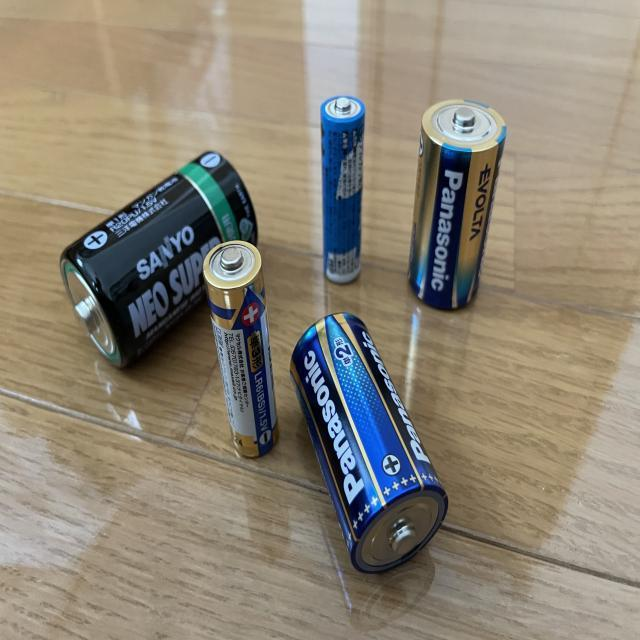battery: (58, 142, 262, 374), (287, 312, 449, 576), (403, 95, 516, 314), (201, 235, 284, 462), (314, 91, 376, 293)
